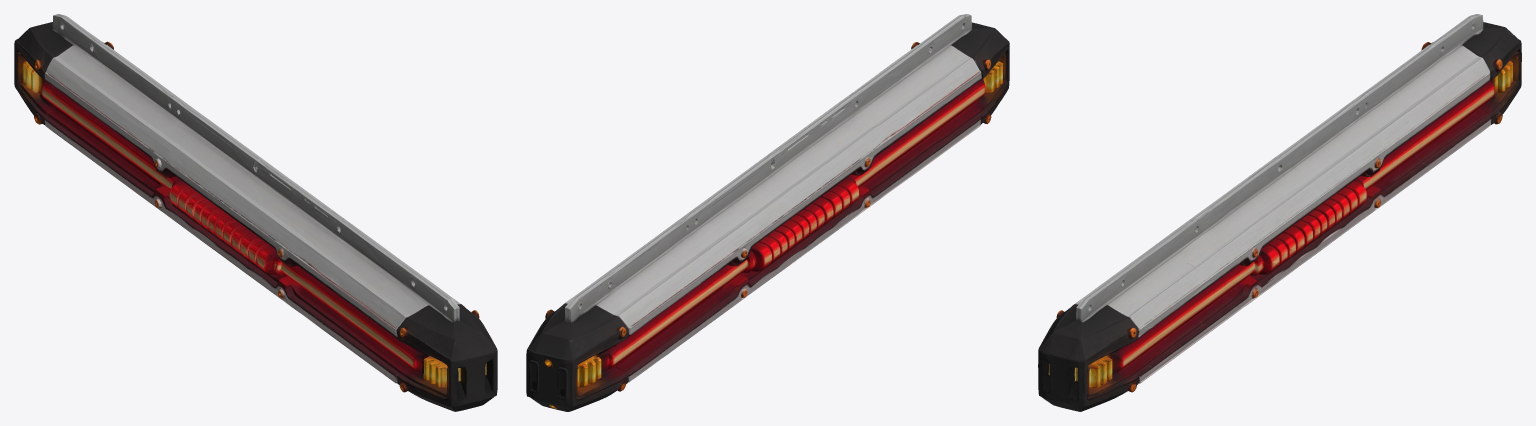
The model's file is tailbar.glb.
3 views of the same model, side by side, from view 1: azimuth 30°, elevation 25°; view 2: azimuth 150°, elevation 25°; view 3: azimuth 330°, elevation 25° (orthographic).
Bounding box in the file's own units: 0.1096 × 0.1254 × 0.9996.
Materials: 1 (1 with a texture image).
